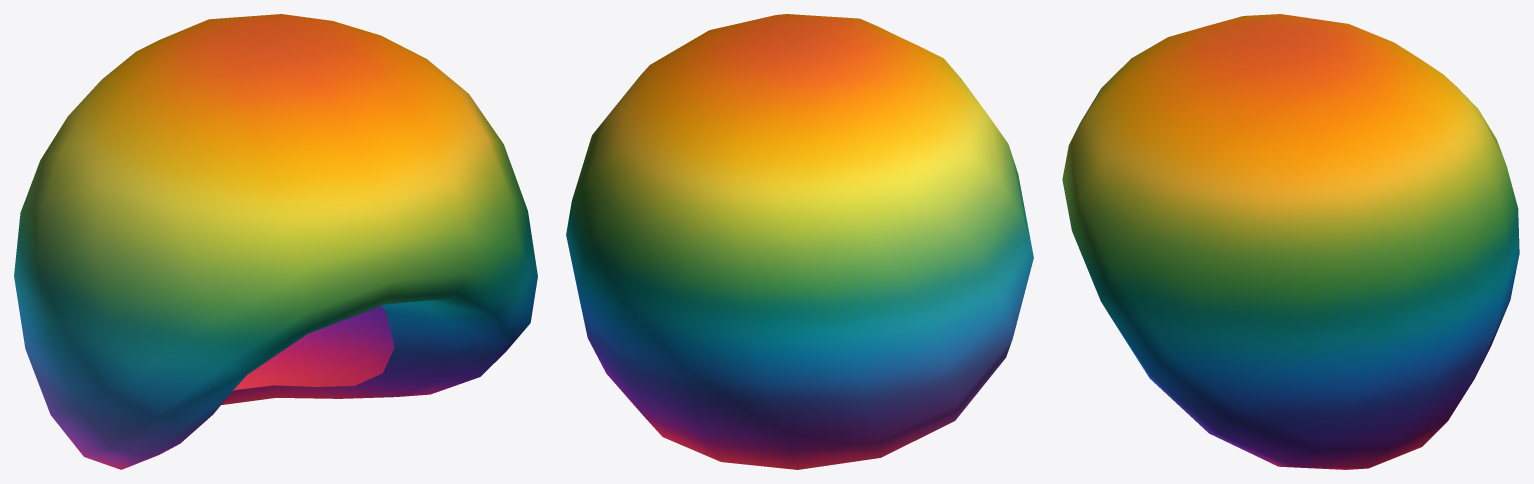
The model's file is Hairstyle_Male_06.glb.
3 renders of one model, left to right at view 1: azimuth 30°, elevation 25°; view 2: azimuth 150°, elevation 25°; view 3: azimuth 270°, elevation 25°, orthographic. The views are drawn at different scales.
Parts seen in each view (by area): view 1: Hairstyle_Male_06; view 2: Hairstyle_Male_06; view 3: Hairstyle_Male_06.
Boxes of the visible parts, x1,y1,x2,y2 form: Hairstyle_Male_06: [14, 14, 537, 469]; Hairstyle_Male_06: [566, 14, 1033, 469]; Hairstyle_Male_06: [1062, 14, 1519, 469].
Size of the model in its own units: 0.73 by 0.6417 by 0.6939.
Materials: 1 (1 with a texture image).
